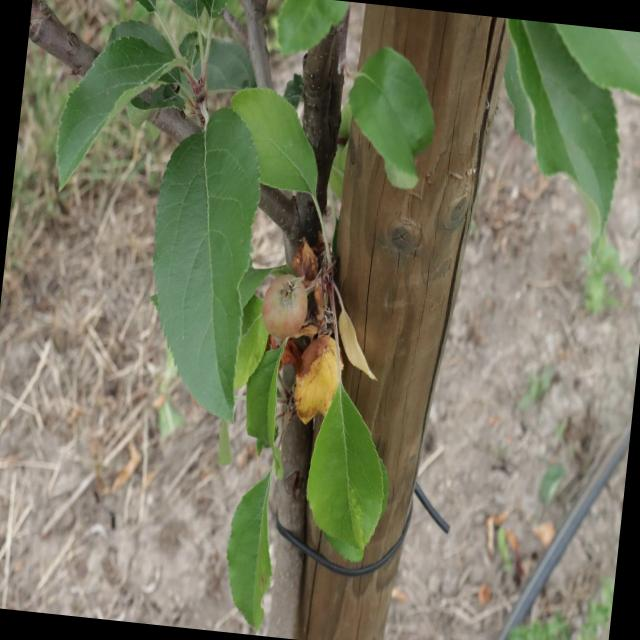-FireBlight-: (260, 236, 378, 414)
